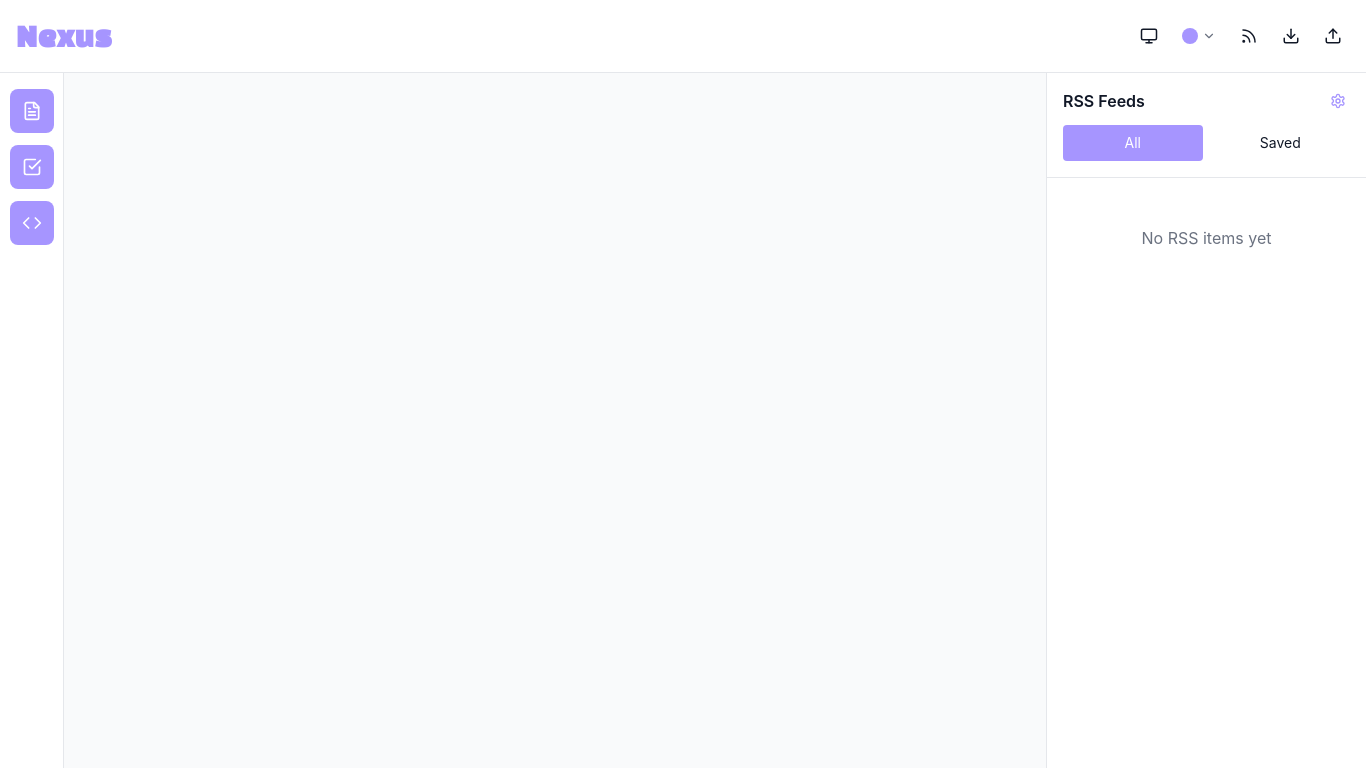
Test: App › should open snippet modal from sidebar
Check: the heading "Nexus" is shown, box x1=16 y1=12 x2=112 y2=60
Click the button titled "New Snippet" at (32, 223), box x1=10 y1=201 x2=54 y2=245
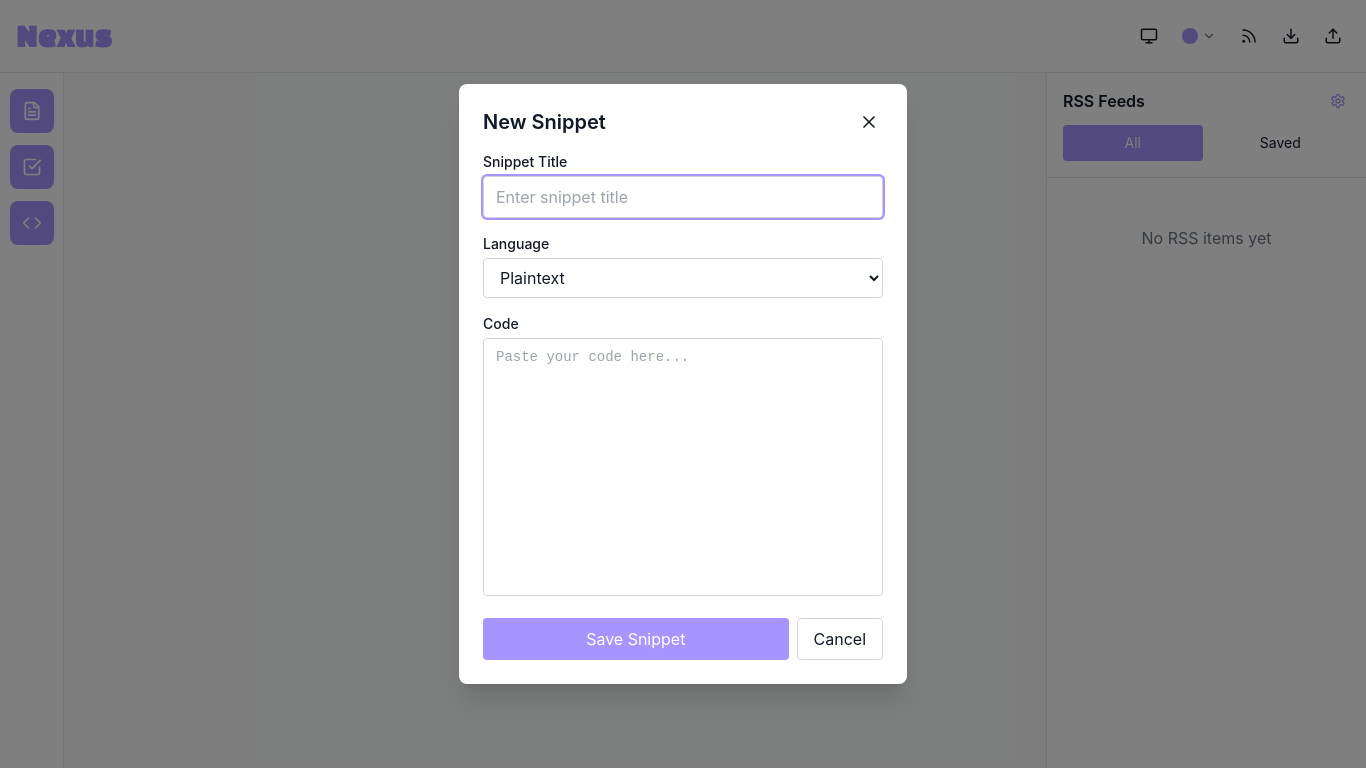
Check: the field with placeholder "Enter snippet title" is shown, box x1=483 y1=176 x2=883 y2=218
